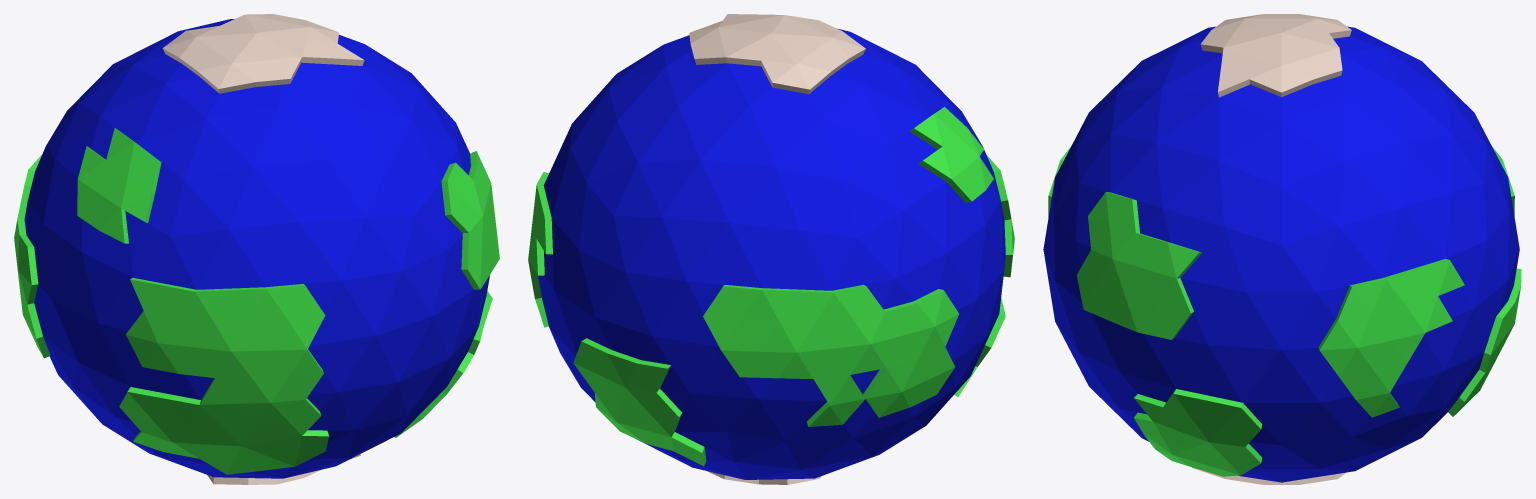
Rendered from Planet02.glb.
3 views of the same model, side by side, from view 1: azimuth 30°, elevation 25°; view 2: azimuth 150°, elevation 25°; view 3: azimuth 270°, elevation 25° (orthographic).
Visible parts, largest first — view 1: Planet02; view 2: Planet02; view 3: Planet02.
Part boxes in pixels (x1=…): Planet02: x1=14, y1=14, x2=499, y2=484; Planet02: x1=528, y1=14, x2=1014, y2=484; Planet02: x1=1043, y1=14, x2=1521, y2=484.
Bounding box in the file's own units: 1 × 1 × 1.
